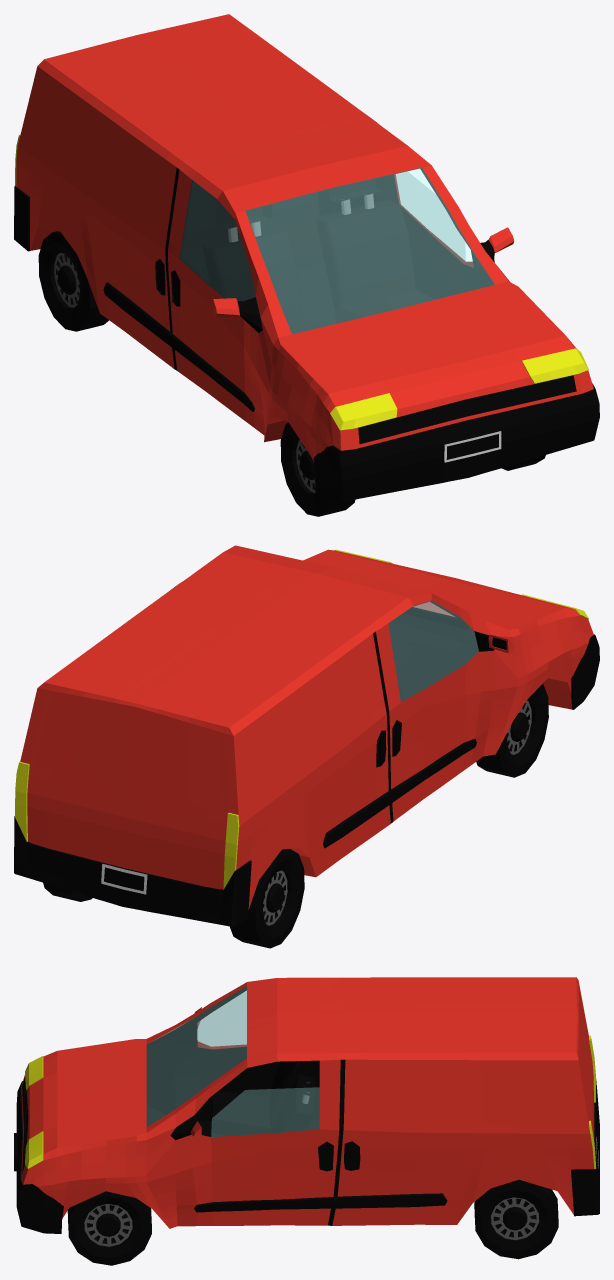
The model's file is fiat doblo.glb.
3 views of the same model, one above another, from view 1: azimuth 30°, elevation 25°; view 2: azimuth 150°, elevation 25°; view 3: azimuth 270°, elevation 25° (orthographic). The views are drawn at different scales.
Parts seen in each view (by area): view 1: armazon, asiento adelante, interior, asiento trasero, rueda_trasera_der, parrilla, rueda_delantera_der, costado; view 2: armazon, baul, interior, rueda_trasera_der, rueda_delantera_der, costado; view 3: armazon, interior, rueda_trasera_izq, asiento adelante, rueda_delantera_izq, costado, baul, parrilla.
Boxes of the visible parts, left/top/right/bottom form: armazon: left=14, top=14, right=599, bottom=501; asiento adelante: left=202, top=177, right=434, bottom=334; interior: left=157, top=167, right=494, bottom=326; asiento trasero: left=181, top=181, right=324, bottom=285; rueda_trasera_der: left=38, top=231, right=108, bottom=331; parrilla: left=358, top=375, right=576, bottom=444; rueda_delantera_der: left=280, top=422, right=355, bottom=516; costado: left=103, top=282, right=254, bottom=411; armazon: left=14, top=545, right=599, bottom=926; baul: left=27, top=690, right=228, bottom=889; interior: left=376, top=600, right=478, bottom=766; rueda_trasera_der: left=230, top=849, right=304, bottom=948; rueda_delantera_der: left=476, top=684, right=548, bottom=777; costado: left=323, top=739, right=476, bottom=848; armazon: left=14, top=977, right=599, bottom=1233; interior: left=146, top=986, right=360, bottom=1169; rueda_trasera_izq: left=474, top=1179, right=558, bottom=1259; asiento adelante: left=211, top=1061, right=314, bottom=1135; rueda_delantera_izq: left=67, top=1191, right=151, bottom=1265; costado: left=194, top=1193, right=447, bottom=1212; baul: left=578, top=985, right=594, bottom=1140; parrilla: left=22, top=1077, right=28, bottom=1174.
Size of the model in its own units: 2.4 by 1.92 by 4.9.
